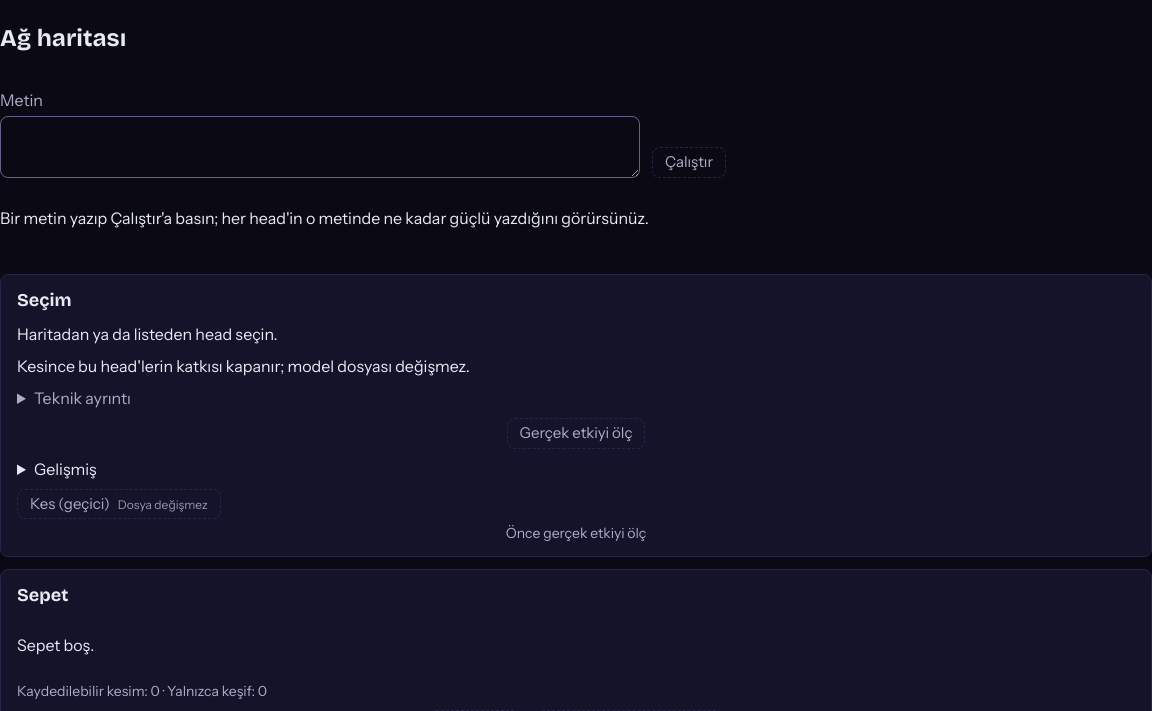
Test: scale toggle switches normalisation without a request
Later steps or results of the test are not shown.
Type "merhaba dün" into the text box labelled "Metin" at (320, 147), box [0,116,640,178]
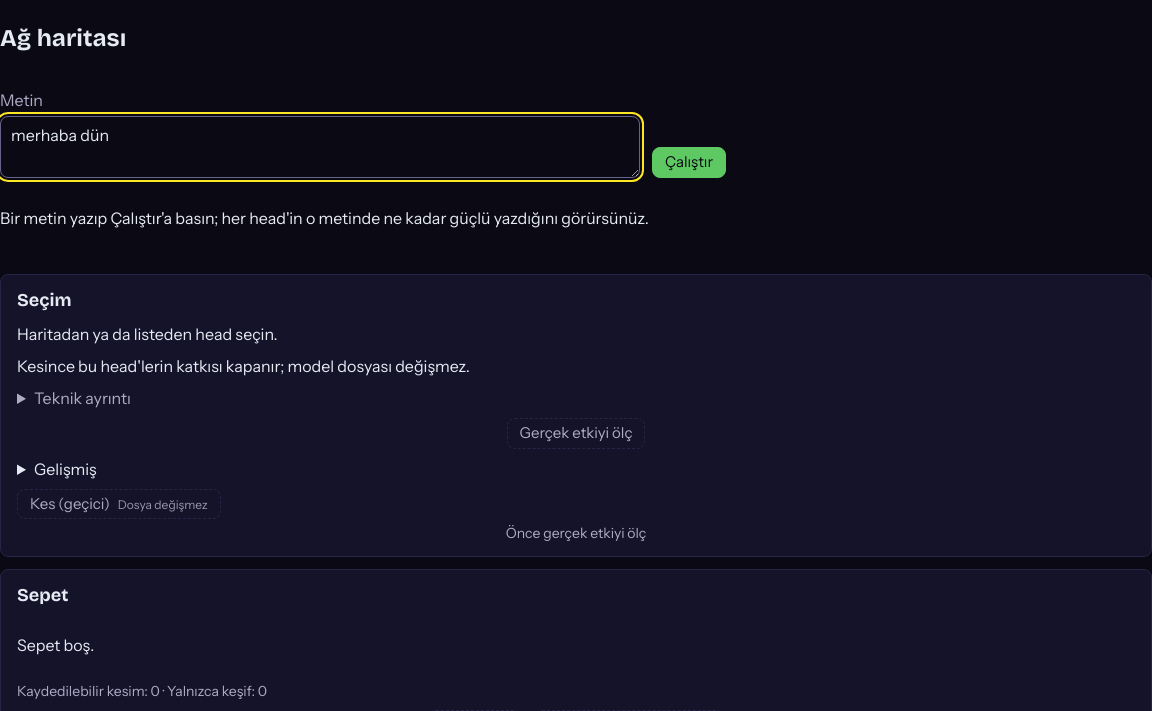
Click the button "Çalıştır" at (689, 162), box [652,147,726,178]
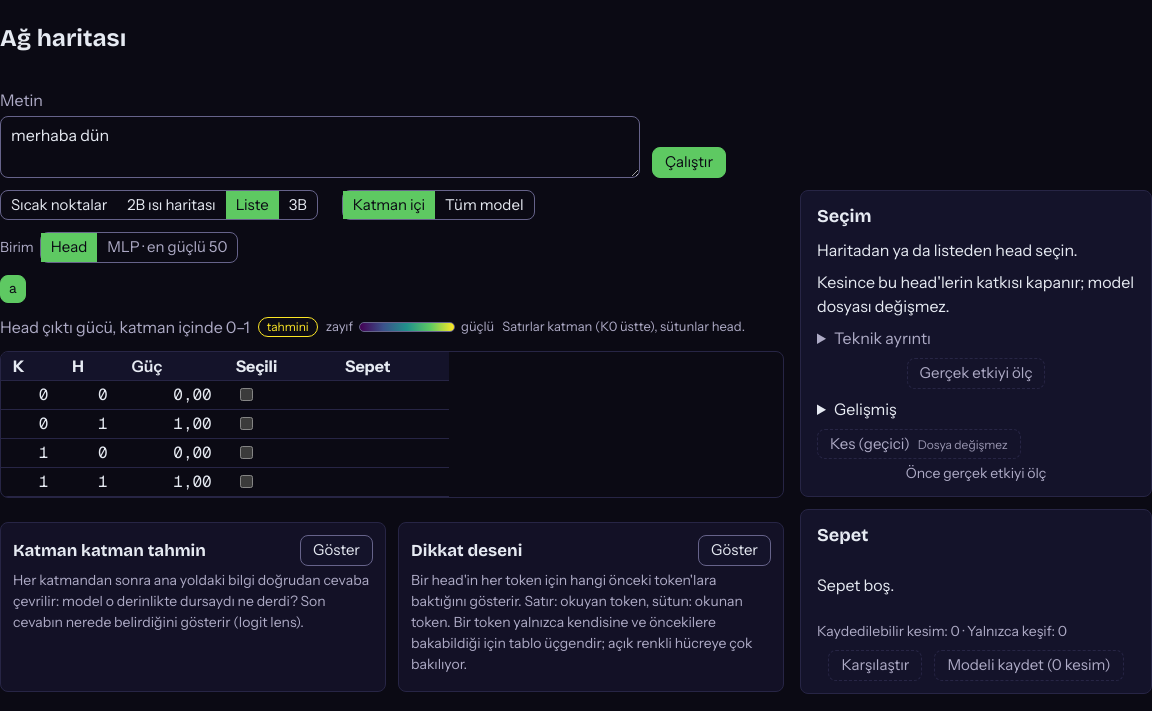
Result: the list named "Belirteçler" is shown at [0,275,26,303]
Click the radio button labelled "Tüm model" at (484, 204), box [445,195,524,214]
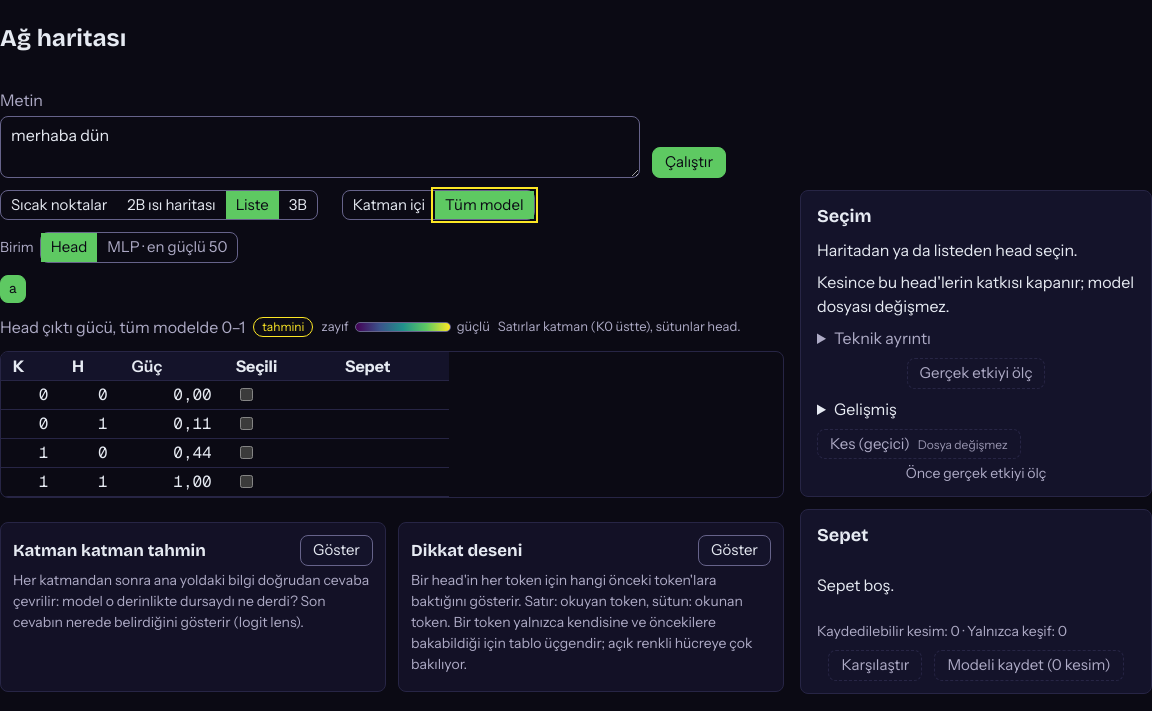
Result: the text "Head çıktı gücü, tüm modelde 0–1" is shown at [0,315,245,339]
